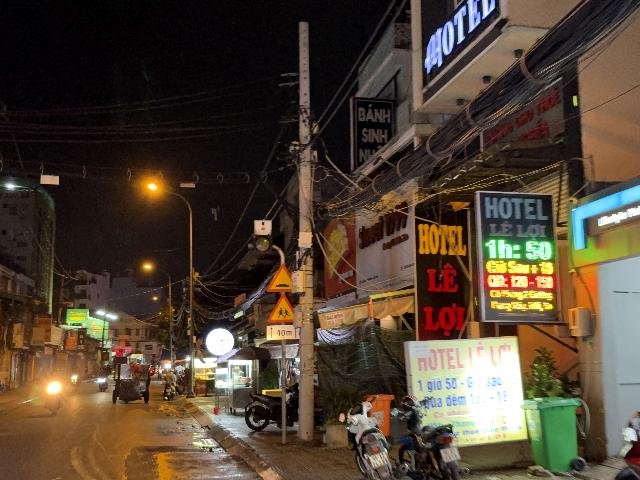duong-co-go-giam-toc: (267, 263, 292, 292)
tre-em-qua-duong: (267, 293, 294, 322)
